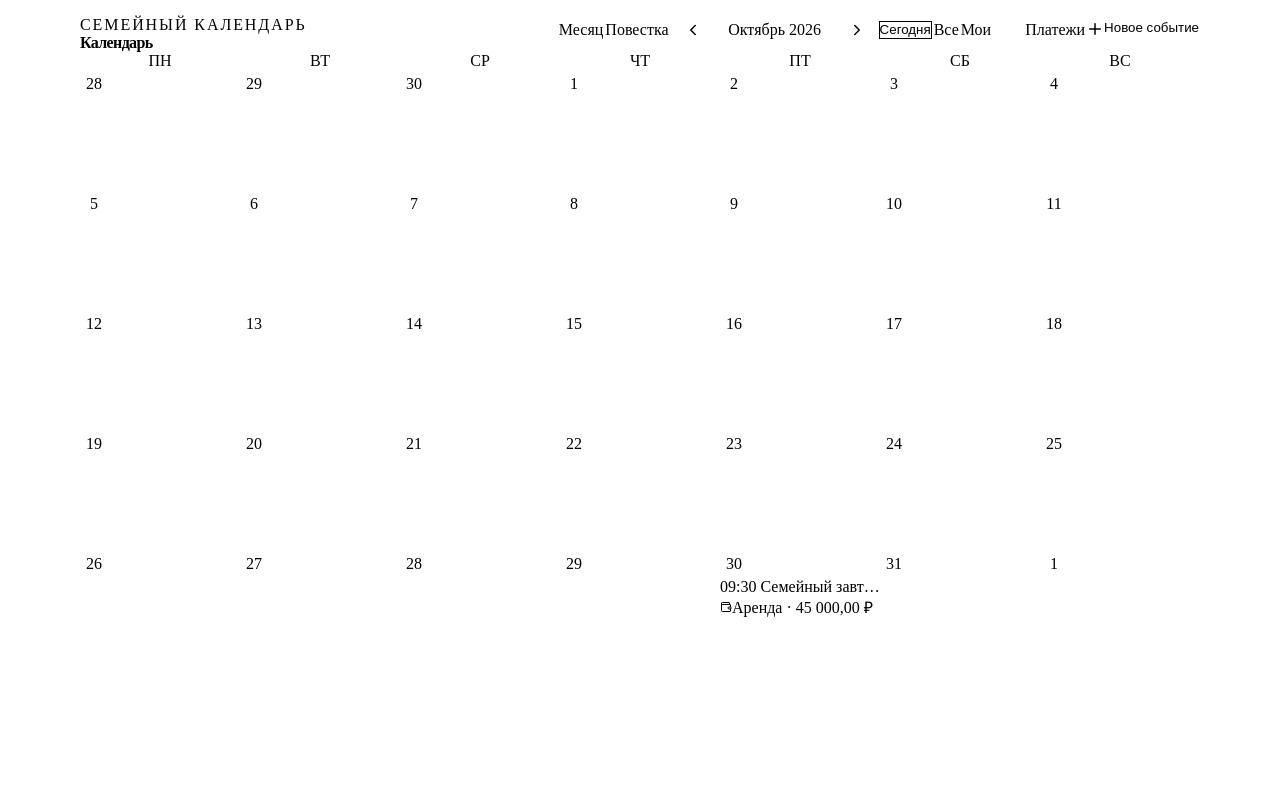
it: calendar page › moves between months, back to today, and keeps the query in sync
What coordinates should you click on to do the following:
click the button named "Следующий период"
I would click on:
 (857, 30)
Its box is [835,20,879,40].
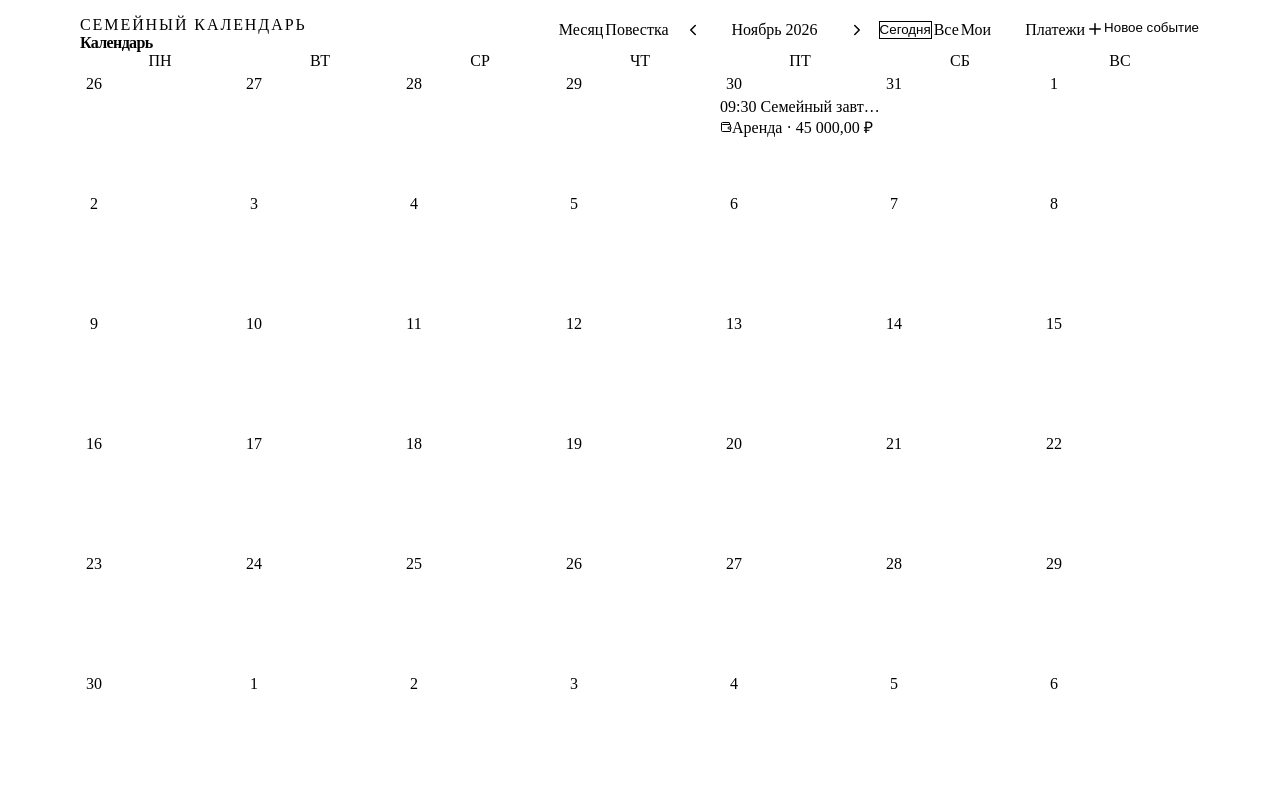
Expected: the text with test id "calendar-period" reads "Ноябрь 2026", [732,21,818,38]
What coordinates should you click on to do the following:
click the button with test id "calendar-today"
I would click on:
 (905, 30)
Its box is [879,21,932,39].
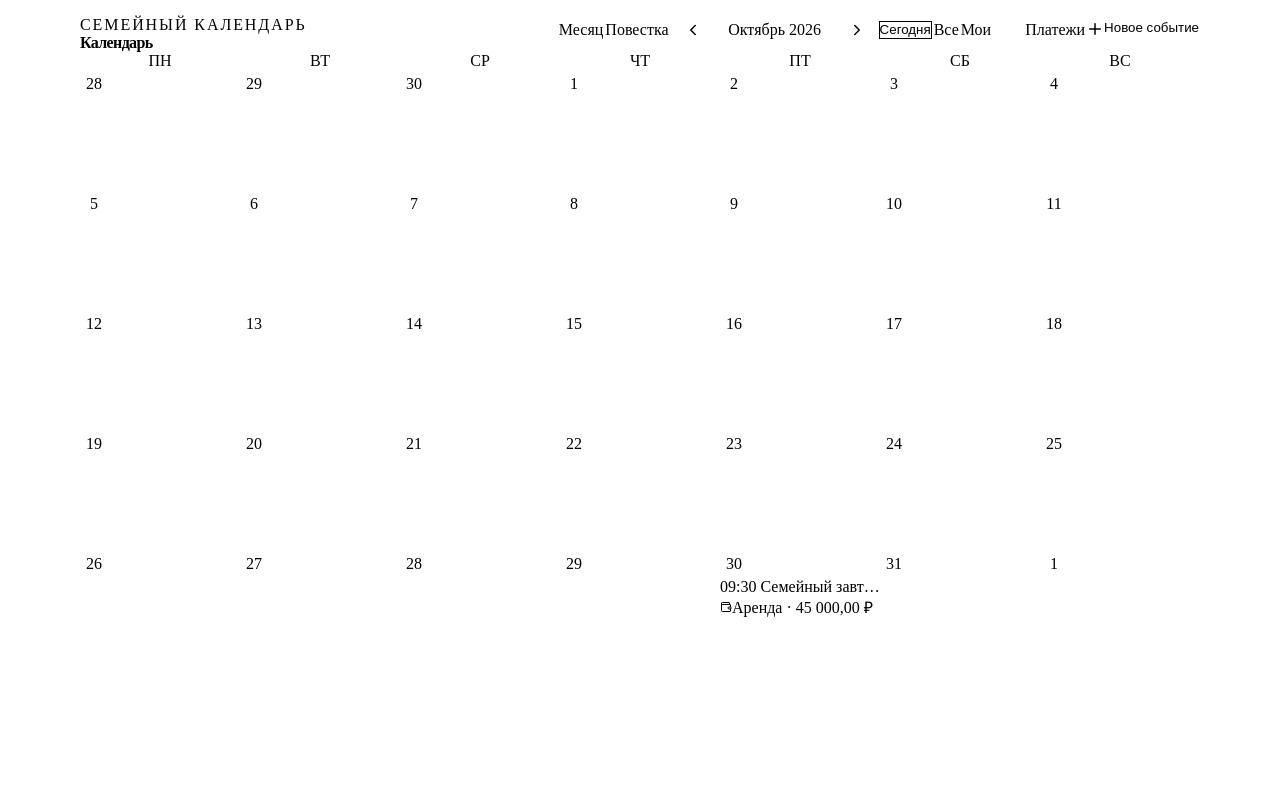
Expected: the text with test id "calendar-period" reads "Октябрь 2026", [728,21,821,38]
